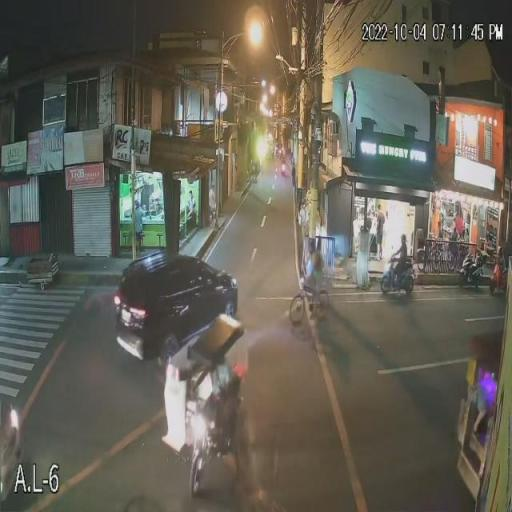helmet: (395, 232, 410, 247)
motorcycle: (378, 259, 419, 301), (452, 251, 490, 292)
rider: (390, 244, 415, 287)
